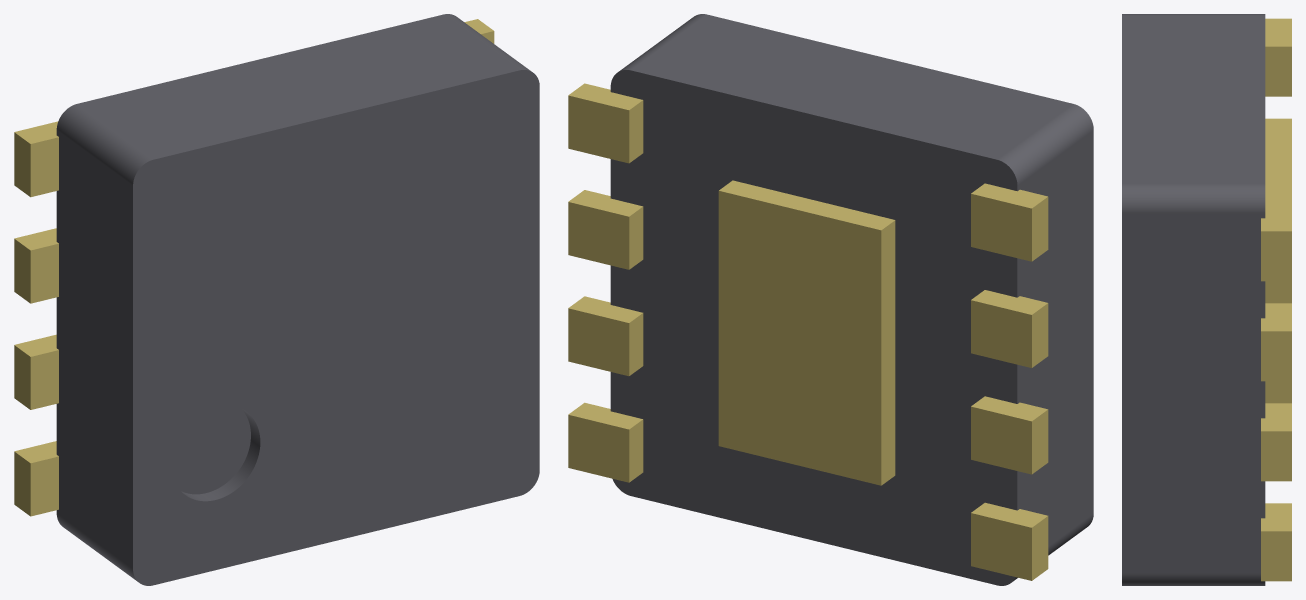
Rendered from max17048.glb.
3 views of the same model, side by side, from view 1: azimuth 30°, elevation 25°; view 2: azimuth 150°, elevation 25°; view 3: azimuth 270°, elevation 25° (orthographic). The views are drawn at different scales.
Parts seen in each view (by area): view 1: extra, pins; view 2: extra, pins; view 3: extra, pins.
Part boxes in pixels (x1,y1,x2,y2): extra: (56, 14, 539, 585); pins: (14, 19, 494, 516); extra: (610, 14, 1093, 585); pins: (568, 83, 1048, 580); extra: (1122, 14, 1265, 585); pins: (1261, 18, 1291, 581).
Bounding box in the file's own units: 2.28 × 2 × 0.77.
